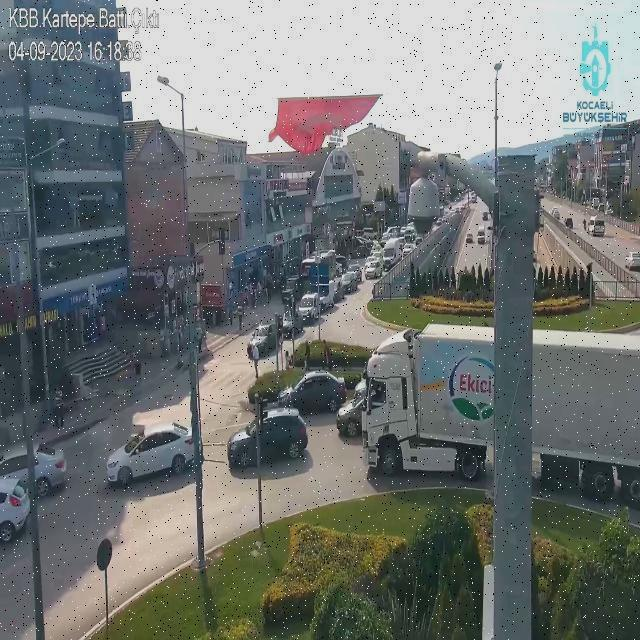Car: (102, 419, 200, 486), (227, 408, 307, 470), (0, 443, 67, 499), (273, 371, 346, 415), (0, 477, 31, 544), (336, 379, 370, 437), (248, 318, 294, 353), (279, 311, 302, 338), (340, 271, 358, 294), (330, 278, 345, 302), (364, 260, 382, 279), (624, 251, 640, 270), (403, 243, 416, 257), (347, 262, 361, 275), (476, 227, 486, 244), (414, 235, 424, 245), (564, 218, 574, 228), (551, 208, 560, 219), (466, 233, 474, 243), (482, 212, 489, 220)
Truck: (365, 322, 640, 498)
Van: (297, 293, 323, 323), (587, 216, 604, 236)
